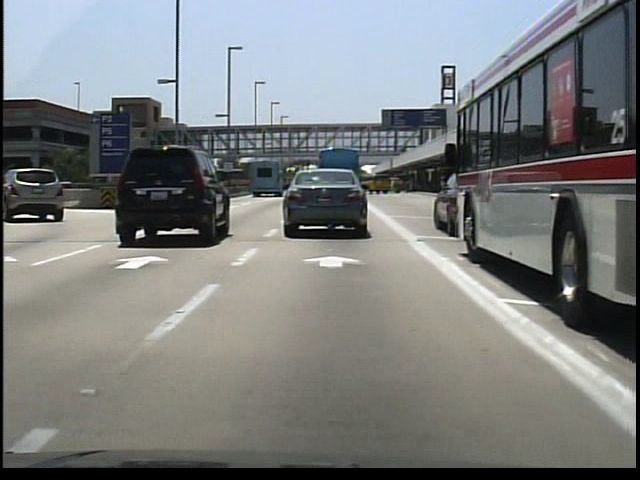person: (390, 136, 403, 158), (360, 136, 374, 156)
